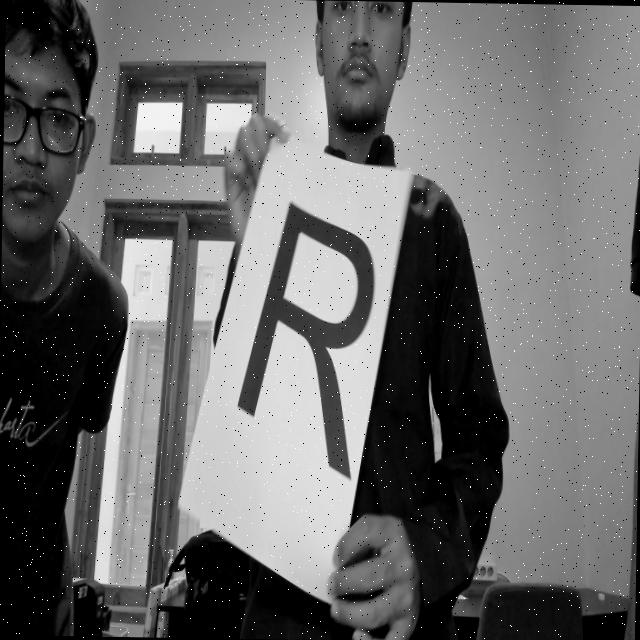r: (234, 169, 394, 517)
